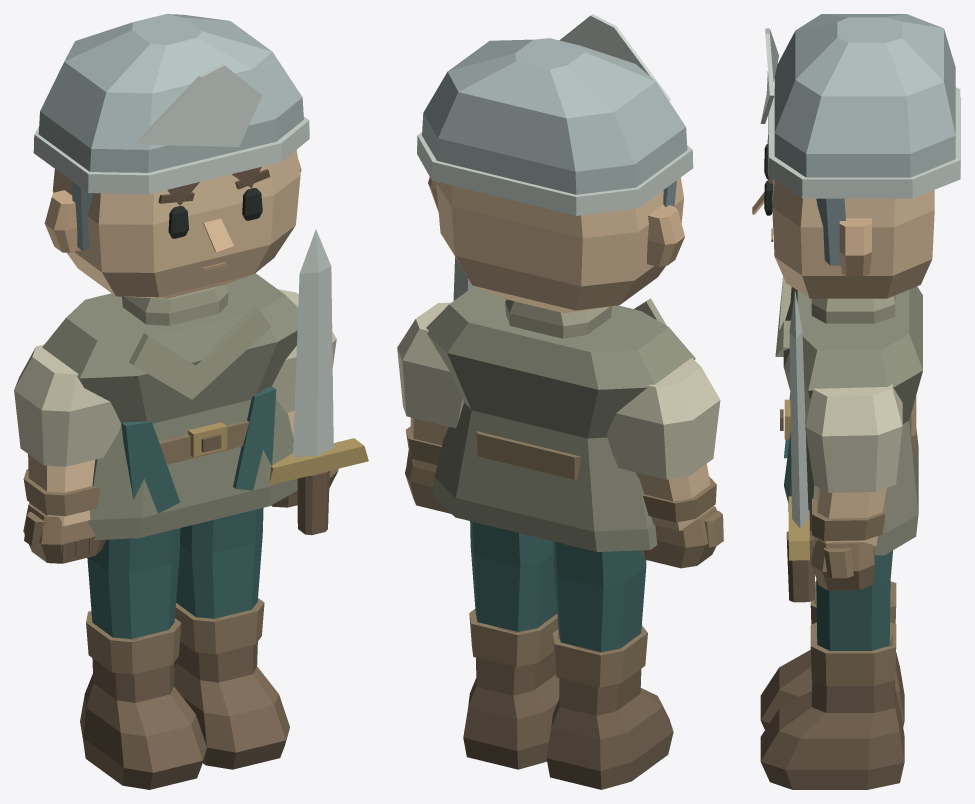
Rendered from giant.glb.
3 renders of one model, left to right at view 1: azimuth 30°, elevation 25°; view 2: azimuth 150°, elevation 25°; view 3: azimuth 270°, elevation 25°, orthographic.
Visible parts, largest first — view 1: Tunic tailored body, Helmet plate shell, Sculpted jaw cheeks forehead, Boot shaped ankle and toe L, Boot shaped ankle and toe R, Sleeve L, Trouser L, Trouser R, Sword blade, Helmet crown plane, Helmet brow rim, Cross folded scarf (+16 smaller); view 2: Tunic tailored body, Helmet plate shell, Sculpted jaw cheeks forehead, Boot shaped ankle and toe L, Sleeve L, Boot shaped ankle and toe R, Trouser L, Trouser R, Helmet brow rim, Sleeve R, Boot cuff L, Boot cuff R (+10 smaller); view 3: Helmet plate shell, Tunic tailored body, Boot shaped ankle and toe R, Sculpted jaw cheeks forehead, Sleeve R, Trouser R, Helmet brow rim, Boot cuff R, Sword blade, Boot shaped ankle and toe L, Glove palm R, Raised collar (+10 smaller).
Boxes of the visible parts, left/top/right/bottom form: Tunic tailored body: left=42, top=273, right=298, bottom=540; Helmet plate shell: left=38, top=14, right=303, bottom=172; Sculpted jaw cheeks forehead: left=52, top=150, right=300, bottom=298; Boot shaped ankle and toe L: left=80, top=637, right=206, bottom=789; Boot shaped ankle and toe R: left=174, top=618, right=289, bottom=769; Sleeve L: left=14, top=344, right=121, bottom=466; Trouser L: left=87, top=528, right=180, bottom=638; Trouser R: left=176, top=508, right=263, bottom=618; Sword blade: left=293, top=229, right=333, bottom=457; Helmet crown plane: left=135, top=64, right=262, bottom=146; Helmet brow rim: left=33, top=116, right=309, bottom=194; Cross folded scarf: left=129, top=306, right=270, bottom=399; Tunic tailored body: left=426, top=286, right=695, bottom=551; Helmet plate shell: left=422, top=38, right=687, bottom=194; Sculpted jaw cheeks forehead: left=436, top=177, right=683, bottom=313; Boot shaped ankle and toe L: left=546, top=633, right=673, bottom=789; Sleeve L: left=607, top=358, right=720, bottom=479; Boot shaped ankle and toe R: left=463, top=624, right=559, bottom=769; Trouser L: left=553, top=541, right=646, bottom=651; Trouser R: left=470, top=521, right=557, bottom=631; Helmet brow rim: left=417, top=132, right=693, bottom=215; Sleeve R: left=397, top=302, right=463, bottom=428; Boot cuff L: left=552, top=625, right=647, bottom=687; Boot cuff R: left=469, top=609, right=558, bottom=667; Helmet plate shell: left=774, top=14, right=955, bottom=177; Tunic tailored body: left=783, top=286, right=922, bottom=555; Boot shaped ankle and toe R: left=760, top=631, right=904, bottom=789; Sculpted jaw cheeks forehead: left=772, top=179, right=934, bottom=298; Sleeve R: left=805, top=384, right=902, bottom=492; Trouser R: left=816, top=550, right=892, bottom=650; Helmet brow rim: left=768, top=87, right=960, bottom=198; Boot cuff R: left=810, top=622, right=896, bottom=685; Sword blade: left=789, top=290, right=808, bottom=528; Boot shaped ankle and toe L: left=760, top=585, right=904, bottom=729; Glove palm R: left=811, top=539, right=874, bottom=590; Raised collar: left=811, top=295, right=895, bottom=323.
Size of the model in its own units: 1.14 by 2.43 by 0.6376.
